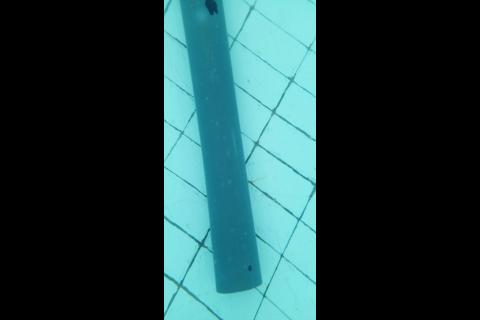kebocoran: (201, 0, 218, 16)
